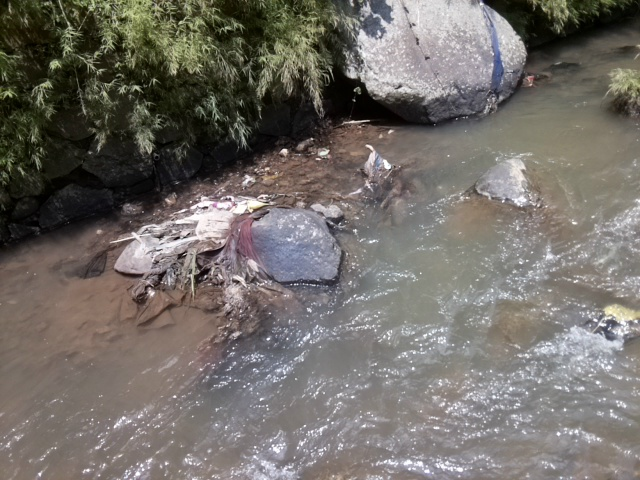Sampah_Plastik: (112, 193, 275, 326)
